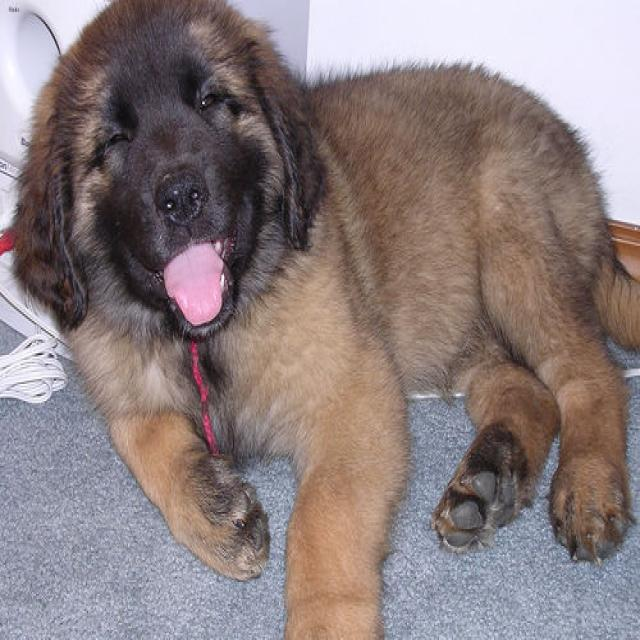dog-leonberger: (1, 2, 637, 637)
